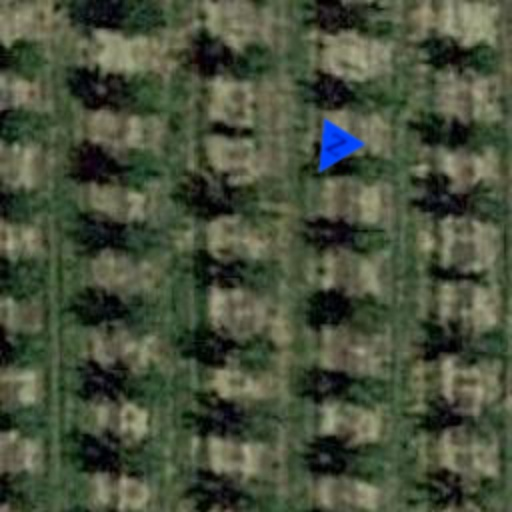triangle: (296, 116, 368, 188)
